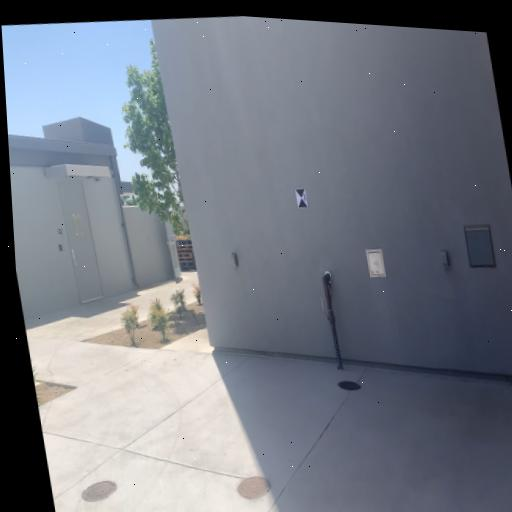target3: (295, 188, 308, 209)
